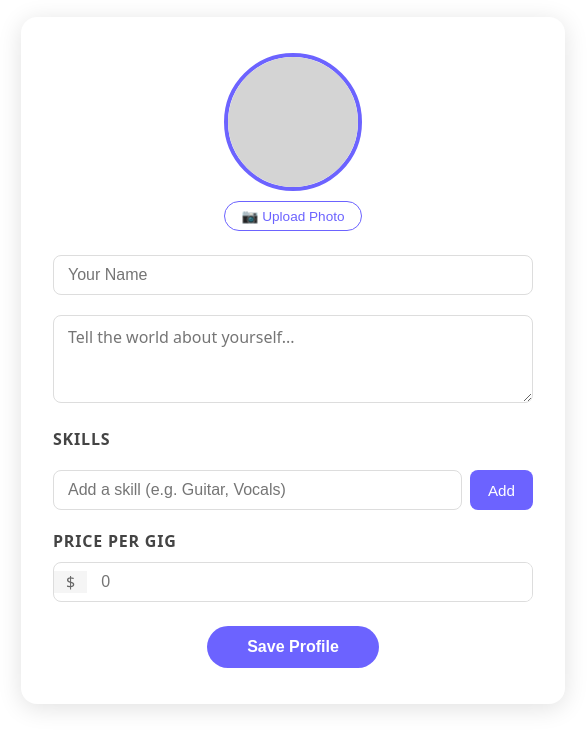
Test: adds a skill tag when Enter key is pressed
Type "Drums" into the field named "Skill input".
click(258, 490); type("Drums")  # box [53,470,462,510]
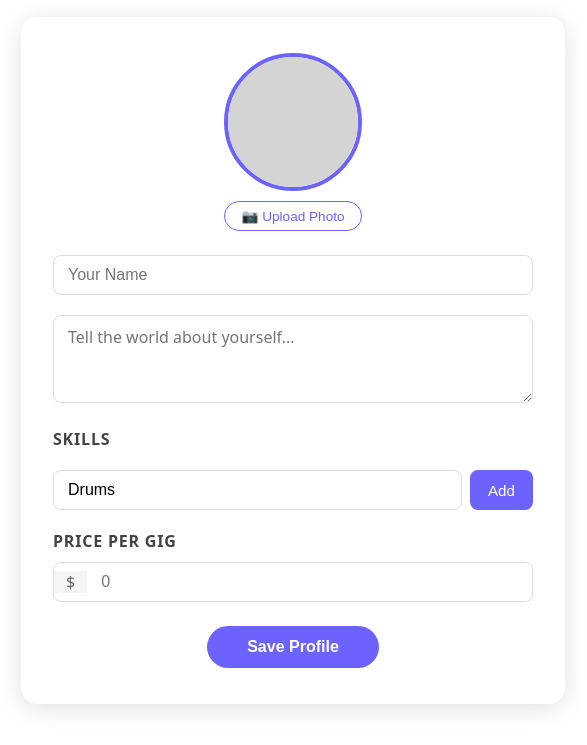
Press Enter in the field named "Skill input", box [53,470,462,510]
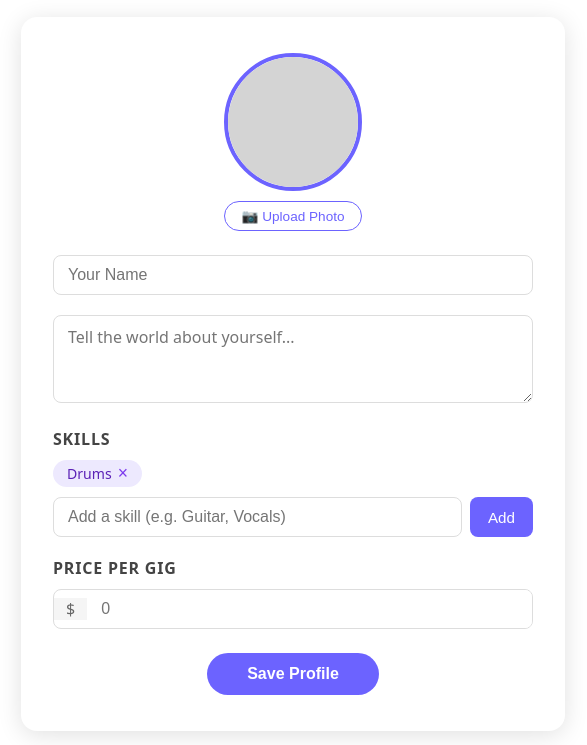
Check: the text "Drums" is shown, box [67,464,112,483]
